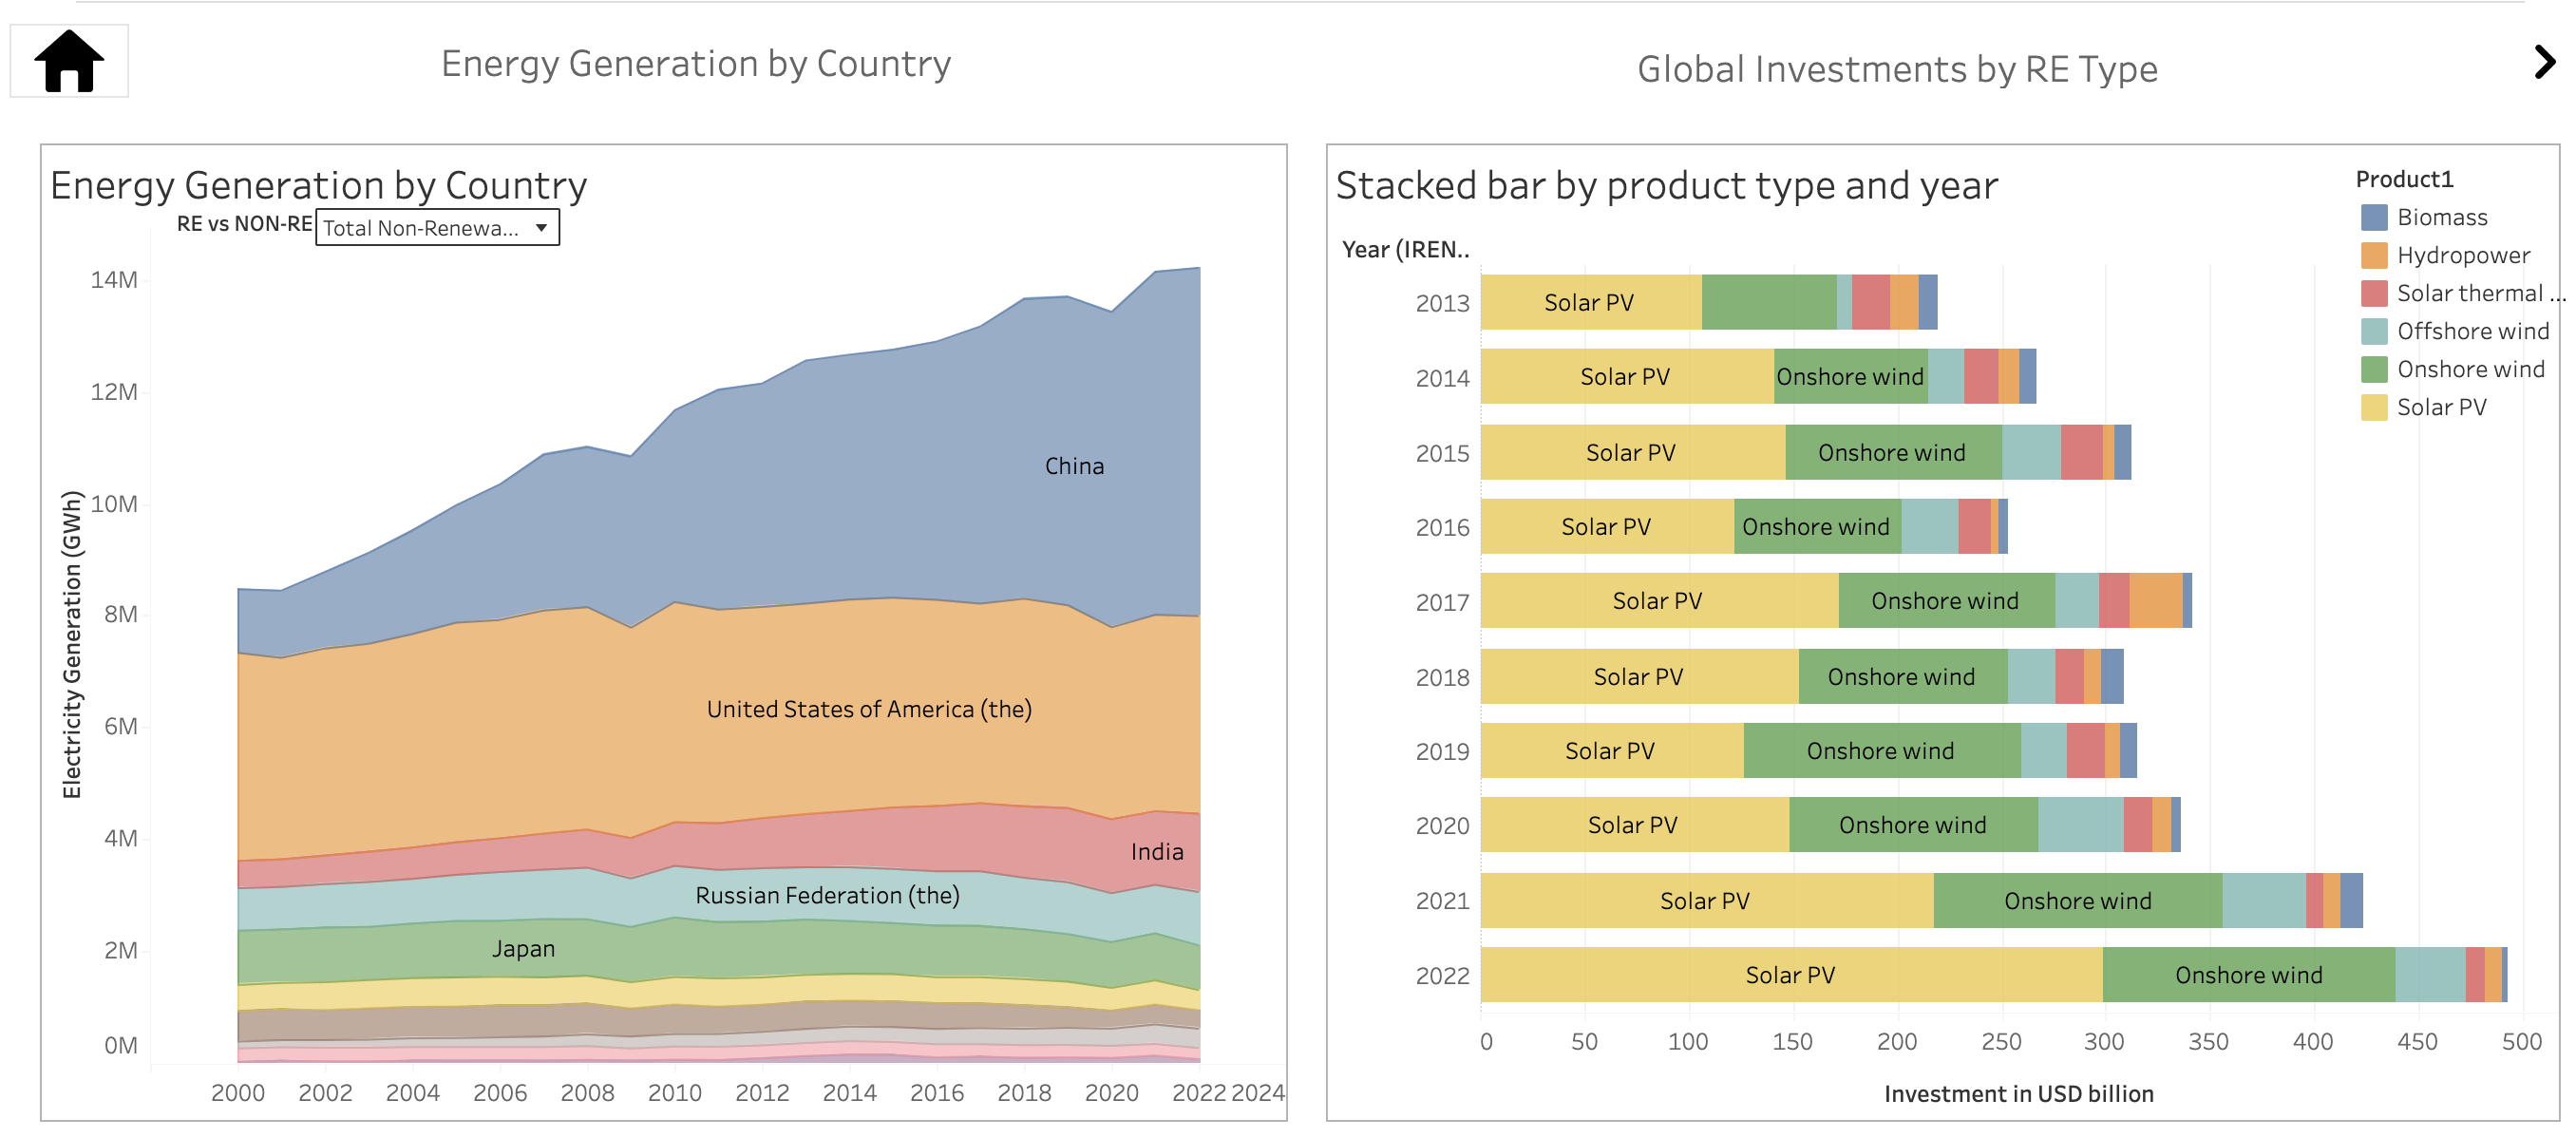

Layout of this report page (visuals, bound fields, positions):
{"tool":"tableau","page":{"name":"Energy Dashboard","canvas":[1000,1000],"units":"permille","ordinal":0},"visuals":[{"type":"dashboard-object","box":[6.5,12,51.3,75.8]},{"type":"text","box":[57.8,12,425.5,75.8]},{"type":"text","box":[492.3,28.6,469.5,51.1]},{"type":"dashboard-object","box":[961.8,28.6,22.8,42.8]},{"type":"worksheet","title":"Energy Generation by Country","mark":"Area","rows":["Electricity Generation (GWh)"],"cols":["Year"],"box":[14.7,103,550.9,869.9]},{"type":"worksheet","title":"Stacked bar by produt type and year","mark":"Automatic","rows":["Year (IRENA-CPI RE Investments)"],"cols":["Investment in USD billion"],"box":[565.5,103,419.9,869.9]},{"type":"legend","title":"Stacked bar by produt type and year","param":"[federated.1pap4rl0b5mm9e15suvva012ybnd].[none:Product:nk]","box":[900.7,136.8,94.4,219.6]},{"type":"parameter","param":"[Parameters].[Parameter 1]","box":[73.2,175.9,146.5,33.1]}]}

Visuals, with their boxes on the dashboard's canvas, which has no fixed pixel size, in thousandths of its width and height (x1, y1, x2, y2). These are canvas units, not pixel positions in the 2576x1138 screenshot, which may show the page scaled, cropped or inside an application window:
dashboard-object: (x1=6, y1=12, x2=58, y2=88)
text: (x1=58, y1=12, x2=483, y2=88)
text: (x1=492, y1=29, x2=962, y2=80)
dashboard-object: (x1=962, y1=29, x2=985, y2=71)
"Energy Generation by Country" worksheet (Area marks): (x1=15, y1=103, x2=566, y2=973)
"Stacked bar by produt type and year" worksheet: (x1=566, y1=103, x2=985, y2=973)
"Stacked bar by produt type and year" legend: (x1=901, y1=137, x2=995, y2=356)
parameter: (x1=73, y1=176, x2=220, y2=209)
